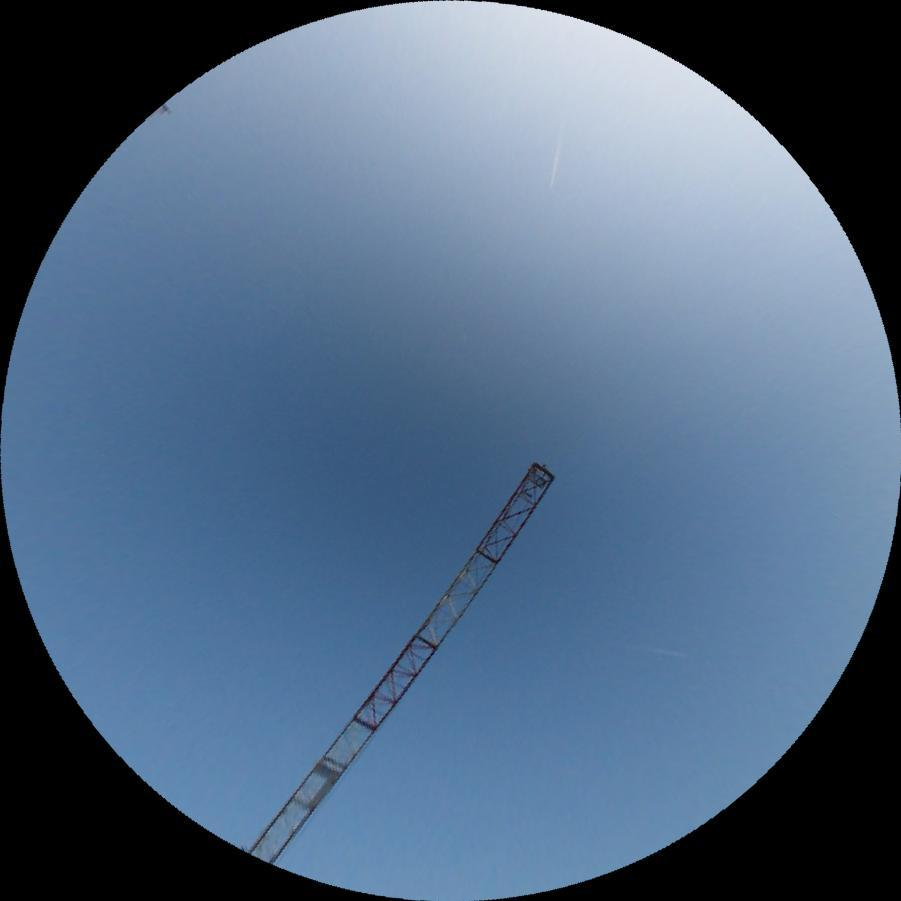contrail young: (547, 127, 565, 190), (635, 644, 687, 660)
